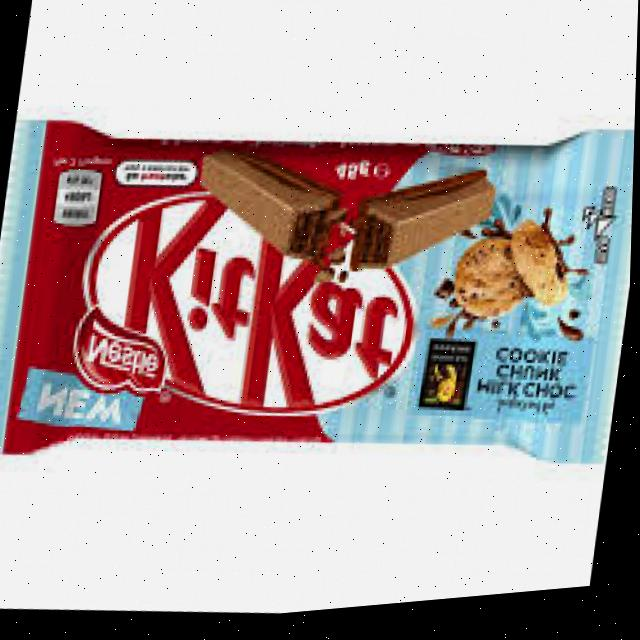kitkat: (0, 77, 637, 525)
